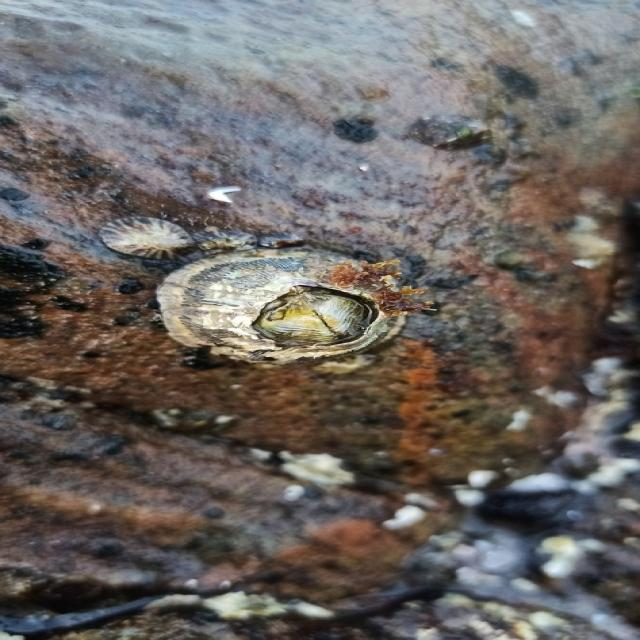barnacles: (152, 252, 423, 378)
